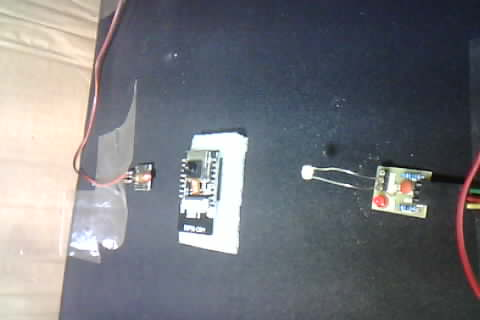esp32: (176, 132, 250, 256)
